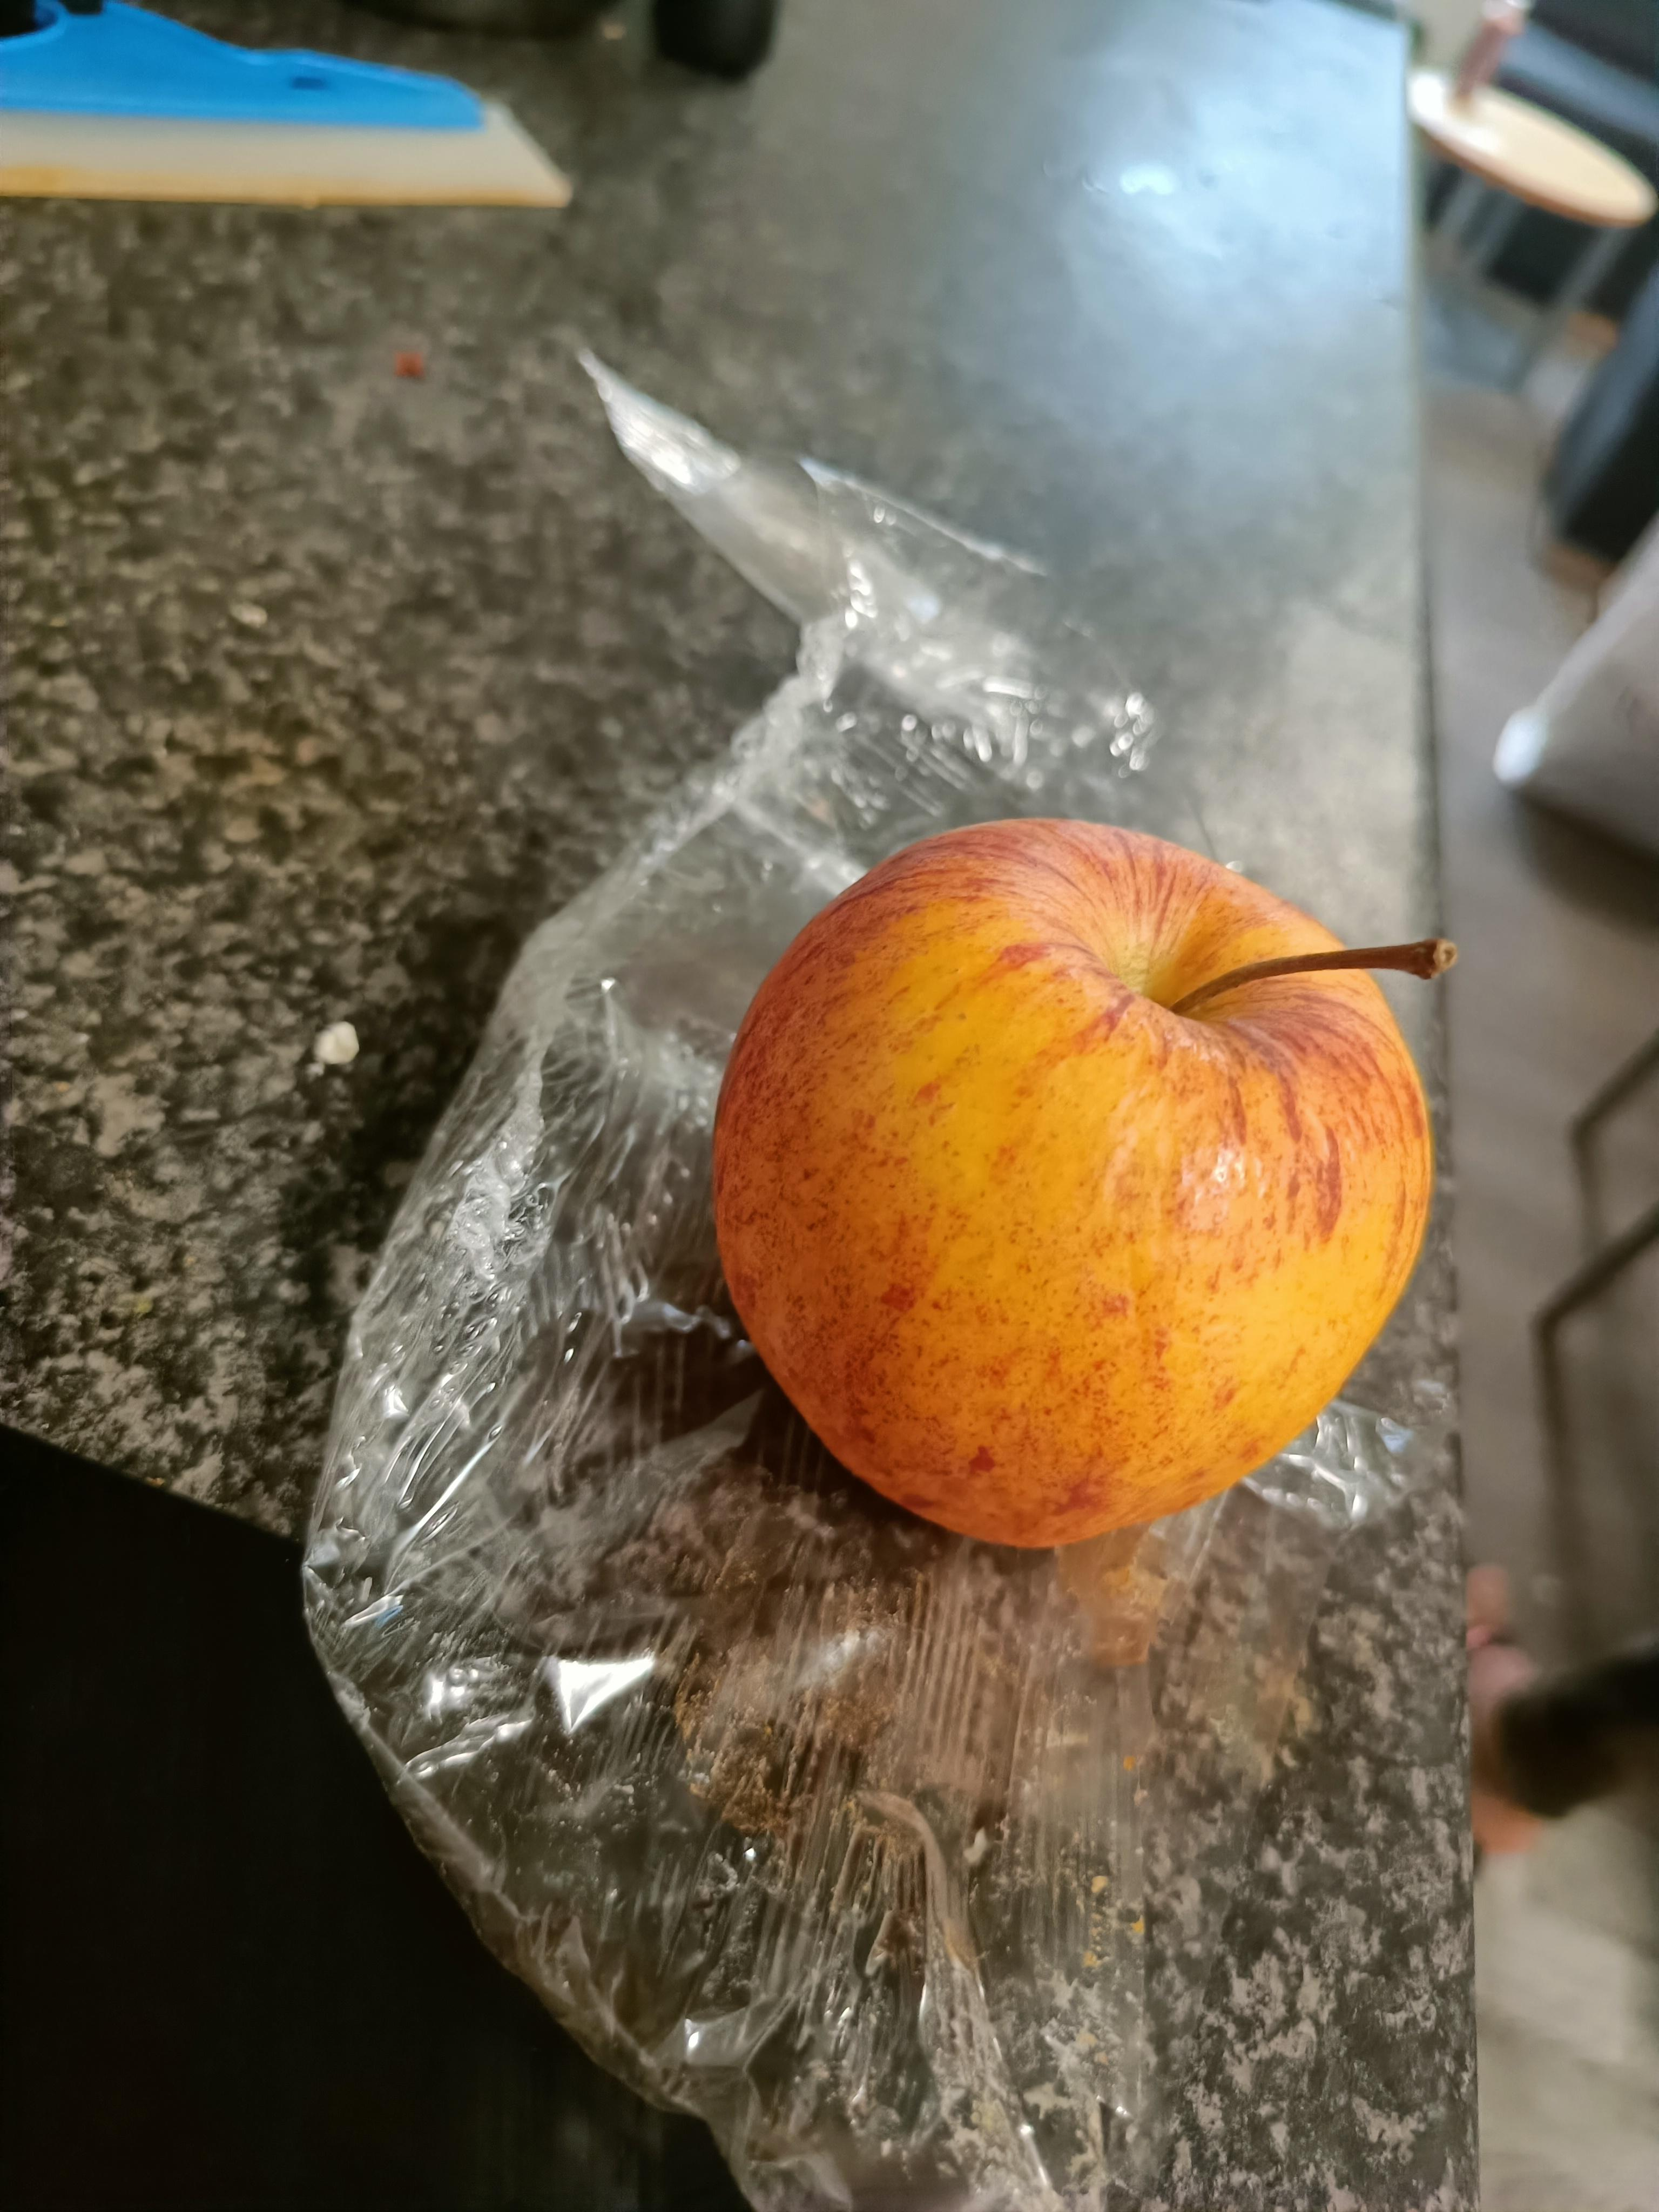Apple: (701, 780, 1455, 1564)
